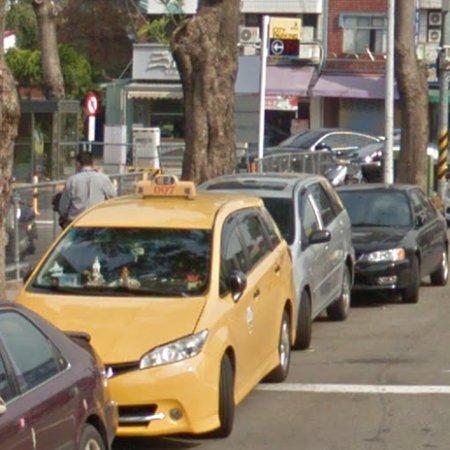taxis: (17, 176, 297, 437)
